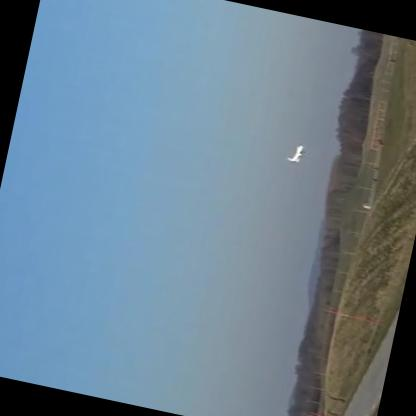plane: (287, 141, 307, 164)
